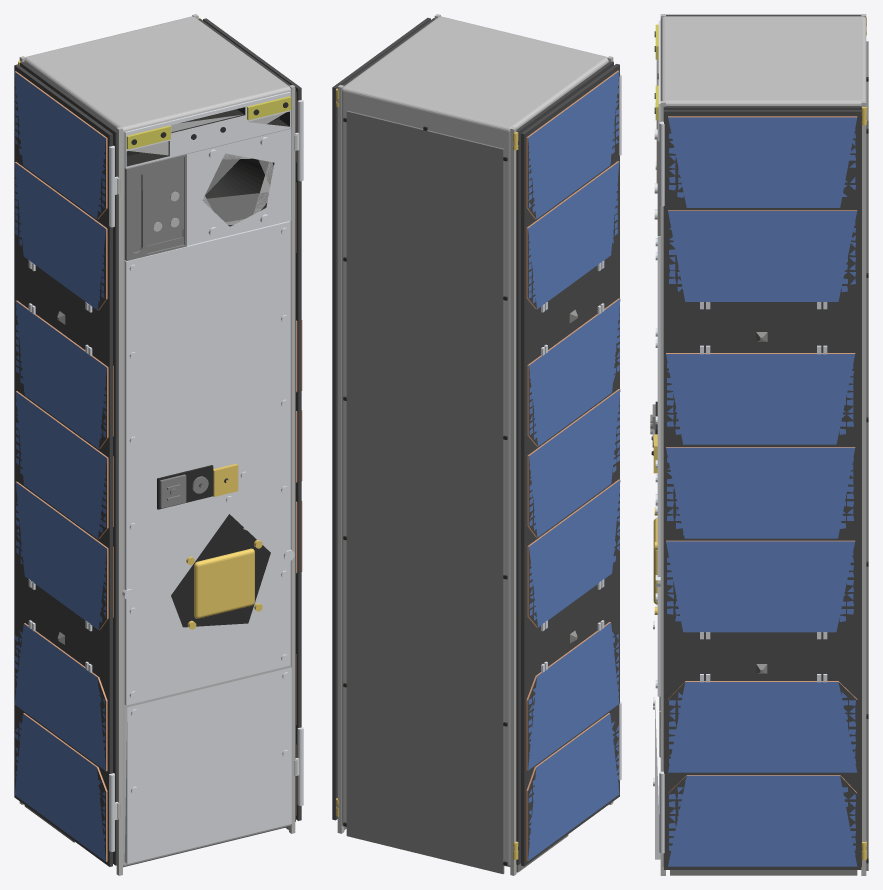
The model's file is nasa-icecube.glb.
3 renders of one model, left to right at view 1: azimuth 30°, elevation 25°; view 2: azimuth 150°, elevation 25°; view 3: azimuth 270°, elevation 25°, orthographic. The views are drawn at different scales.
Parts seen in each view (by area): view 1: Layer_0, Layer_3, Layer_5, Layer_2, Layer_4; view 2: Layer_0, Layer_3, Layer_5, Layer_2; view 3: Layer_5, Layer_0, Layer_4, Layer_3.
Boxes of the visible parts, bbox=[...] form: Layer_0: bbox=[18, 14, 295, 875]; Layer_3: bbox=[14, 64, 118, 866]; Layer_5: bbox=[203, 18, 303, 820]; Layer_2: bbox=[20, 62, 120, 865]; Layer_4: bbox=[198, 18, 297, 821]; Layer_0: bbox=[336, 14, 613, 875]; Layer_3: bbox=[521, 64, 621, 866]; Layer_5: bbox=[332, 17, 430, 820]; Layer_2: bbox=[514, 61, 613, 864]; Layer_5: bbox=[659, 110, 861, 869]; Layer_0: bbox=[650, 14, 868, 875]; Layer_4: bbox=[663, 106, 866, 866]; Layer_3: bbox=[659, 14, 861, 757].
Size of the model in its own units: 0.1694 by 0.6 by 0.1535.
